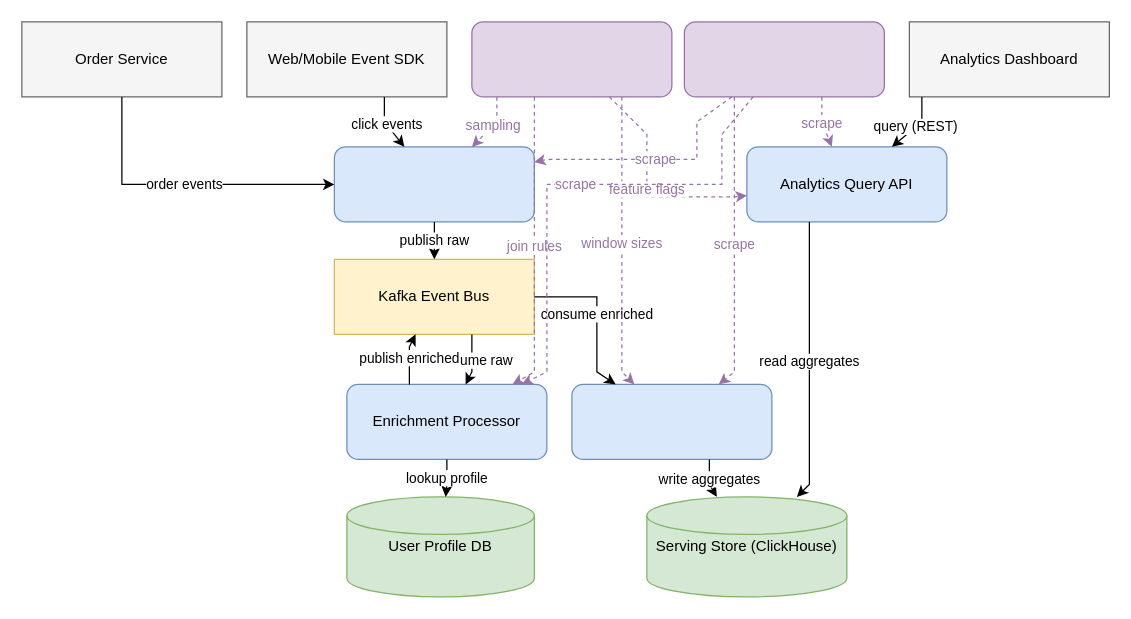
This 1131x619 diagram has some shape labels left out. The shapes that lost their labels are listed below. From the top down, each one's centre as x and y in pixels, then its label:
the point at 571,59: Config Service
the point at 783,59: Metrics Collector
the point at 433,184: Ingestion Gateway
the point at 671,421: Aggregation Processor
